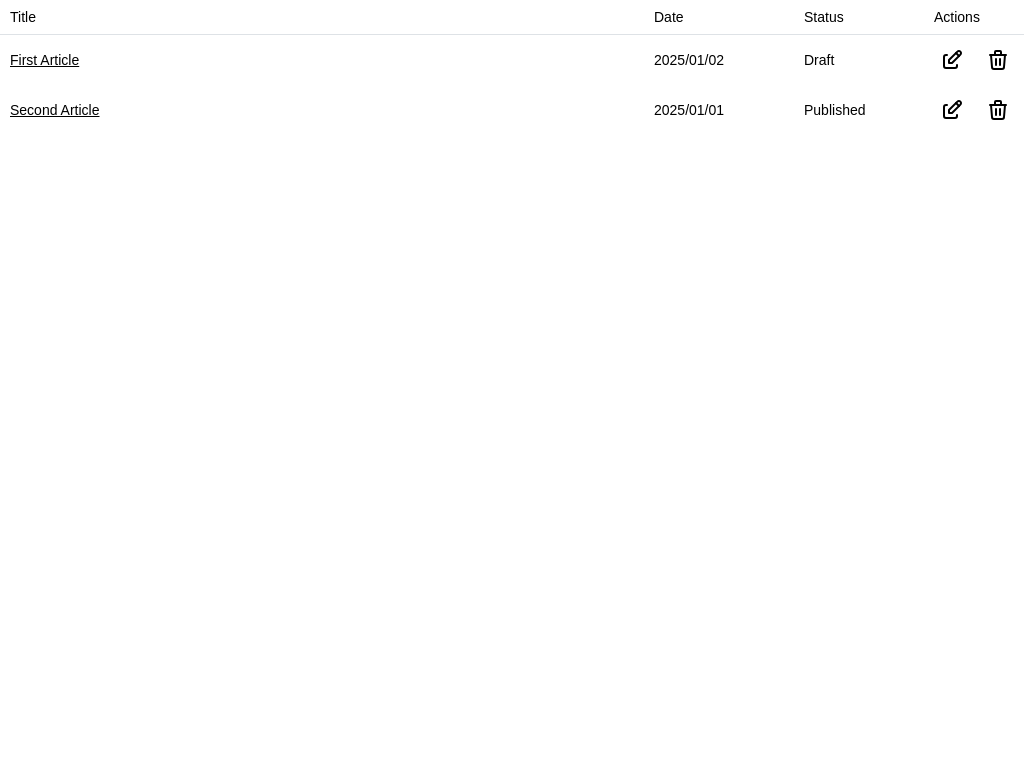
Test: 記事一覧コンポーネント › 削除ボタンを押下した場合 › 表示された確認メッセージを承諾すると、削除アクションが実行され、成功メッセージが表示される
Click the button named "Delete Article" in the row of "First Article".
click(998, 60)  # box [980,42,1016,78]
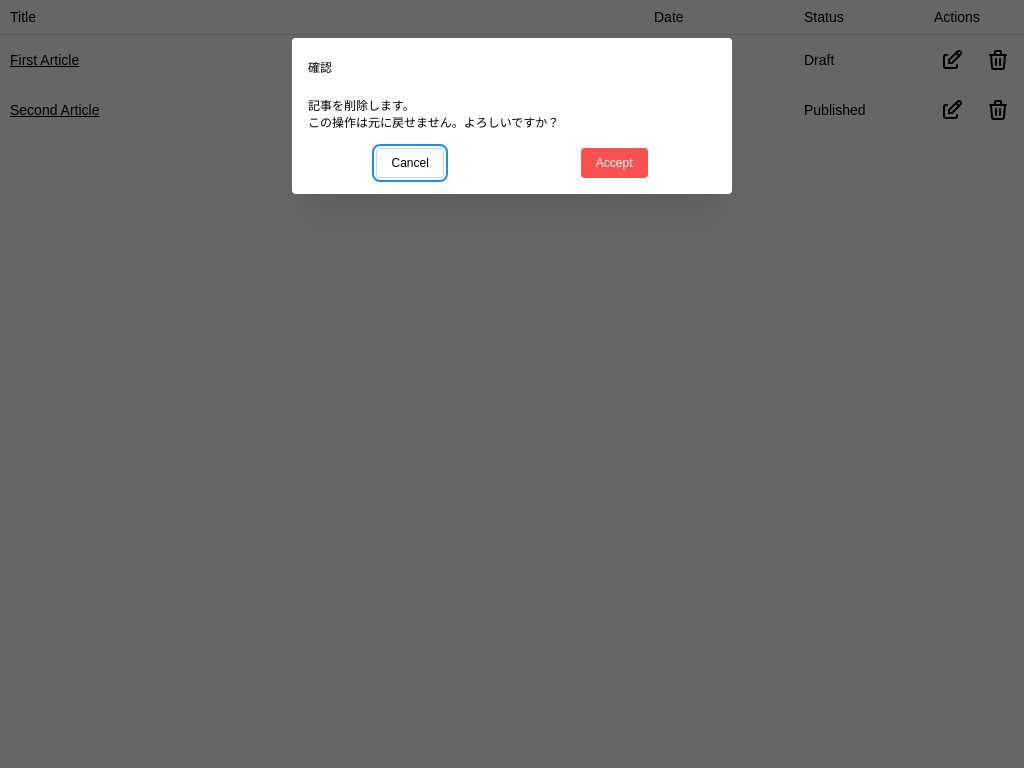
Expected: the text "記事を削除します。 この操作は元に戻せません。よろしいですか？" is shown, [308,99,559,130]
Click the button "Accept".
click(614, 163)  # box [581,148,648,178]
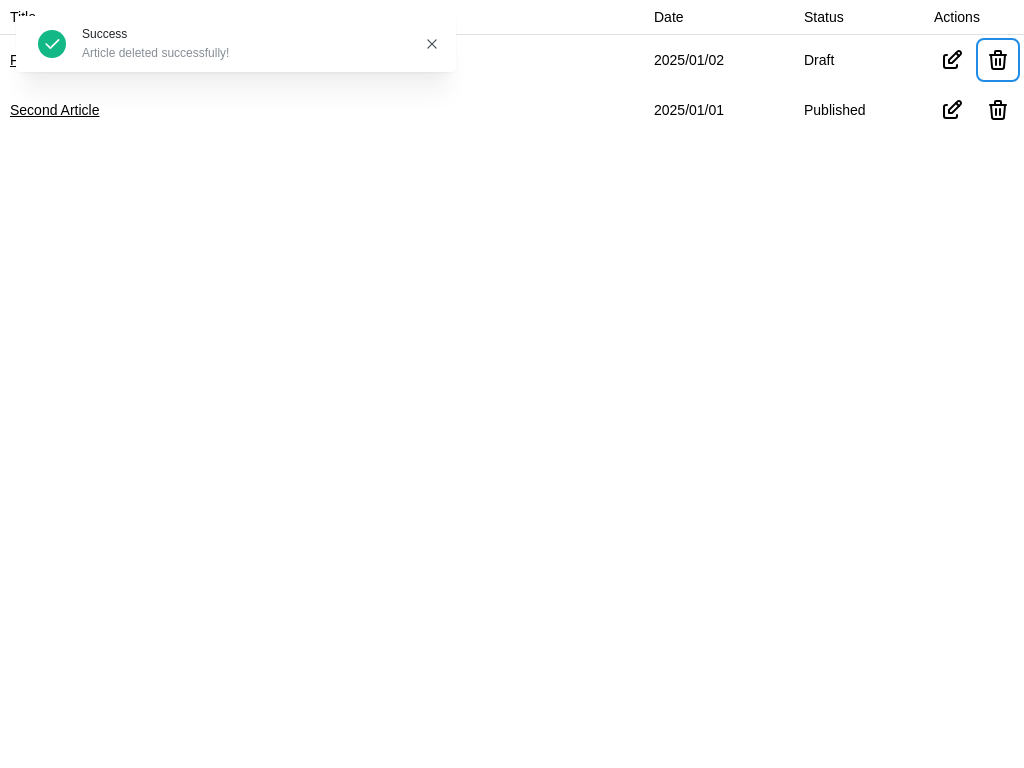
Expected: the text "Article deleted successfully!" is shown, [82,46,229,60]
